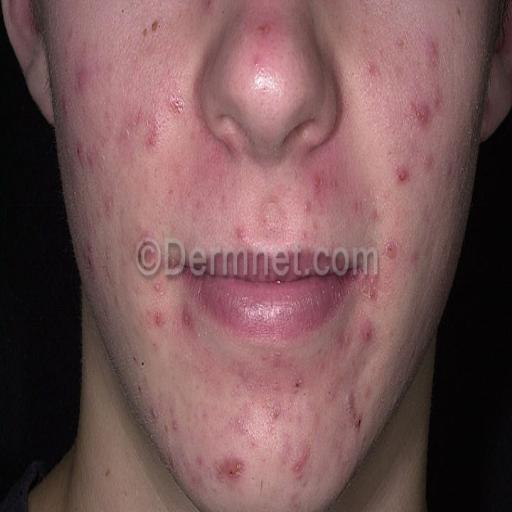Skin_Lesion: (74, 136, 100, 186), (222, 447, 244, 490), (416, 88, 436, 133), (290, 442, 310, 486), (82, 238, 102, 281), (250, 20, 277, 47), (380, 228, 398, 267), (344, 392, 362, 431), (177, 303, 196, 339), (100, 194, 120, 224), (148, 310, 168, 338), (143, 121, 161, 152), (394, 154, 410, 188), (143, 274, 167, 296), (73, 60, 89, 92), (147, 12, 162, 42), (312, 169, 326, 199), (365, 275, 379, 303), (427, 32, 441, 60), (362, 316, 374, 346), (291, 372, 306, 394), (170, 412, 182, 436), (452, 0, 466, 20), (234, 219, 246, 242), (199, 0, 215, 15), (290, 492, 302, 511)
